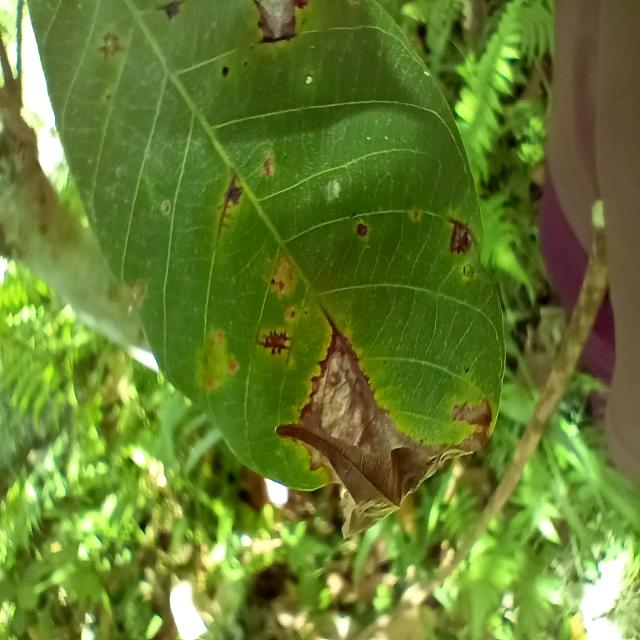Colletotrichum: (357, 224, 368, 238), (221, 66, 230, 77)
Corynespora: (218, 173, 245, 235), (448, 215, 474, 254), (255, 329, 291, 356), (154, 0, 188, 18), (258, 32, 299, 46)
Leaf-Blight: (276, 333, 492, 540), (256, 0, 296, 37)
